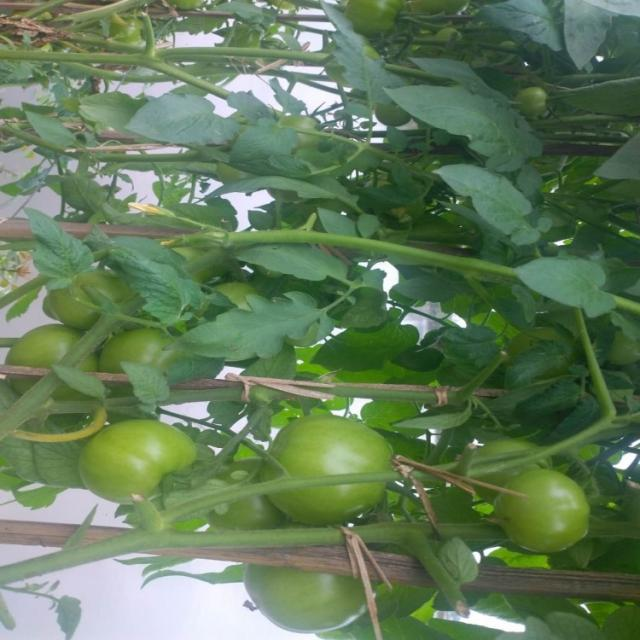tomato: (240, 422, 414, 521), (240, 541, 380, 640), (75, 409, 210, 493), (1, 304, 98, 411), (489, 473, 604, 561), (104, 324, 203, 399), (44, 275, 126, 331), (512, 80, 558, 132), (349, 1, 406, 36)
